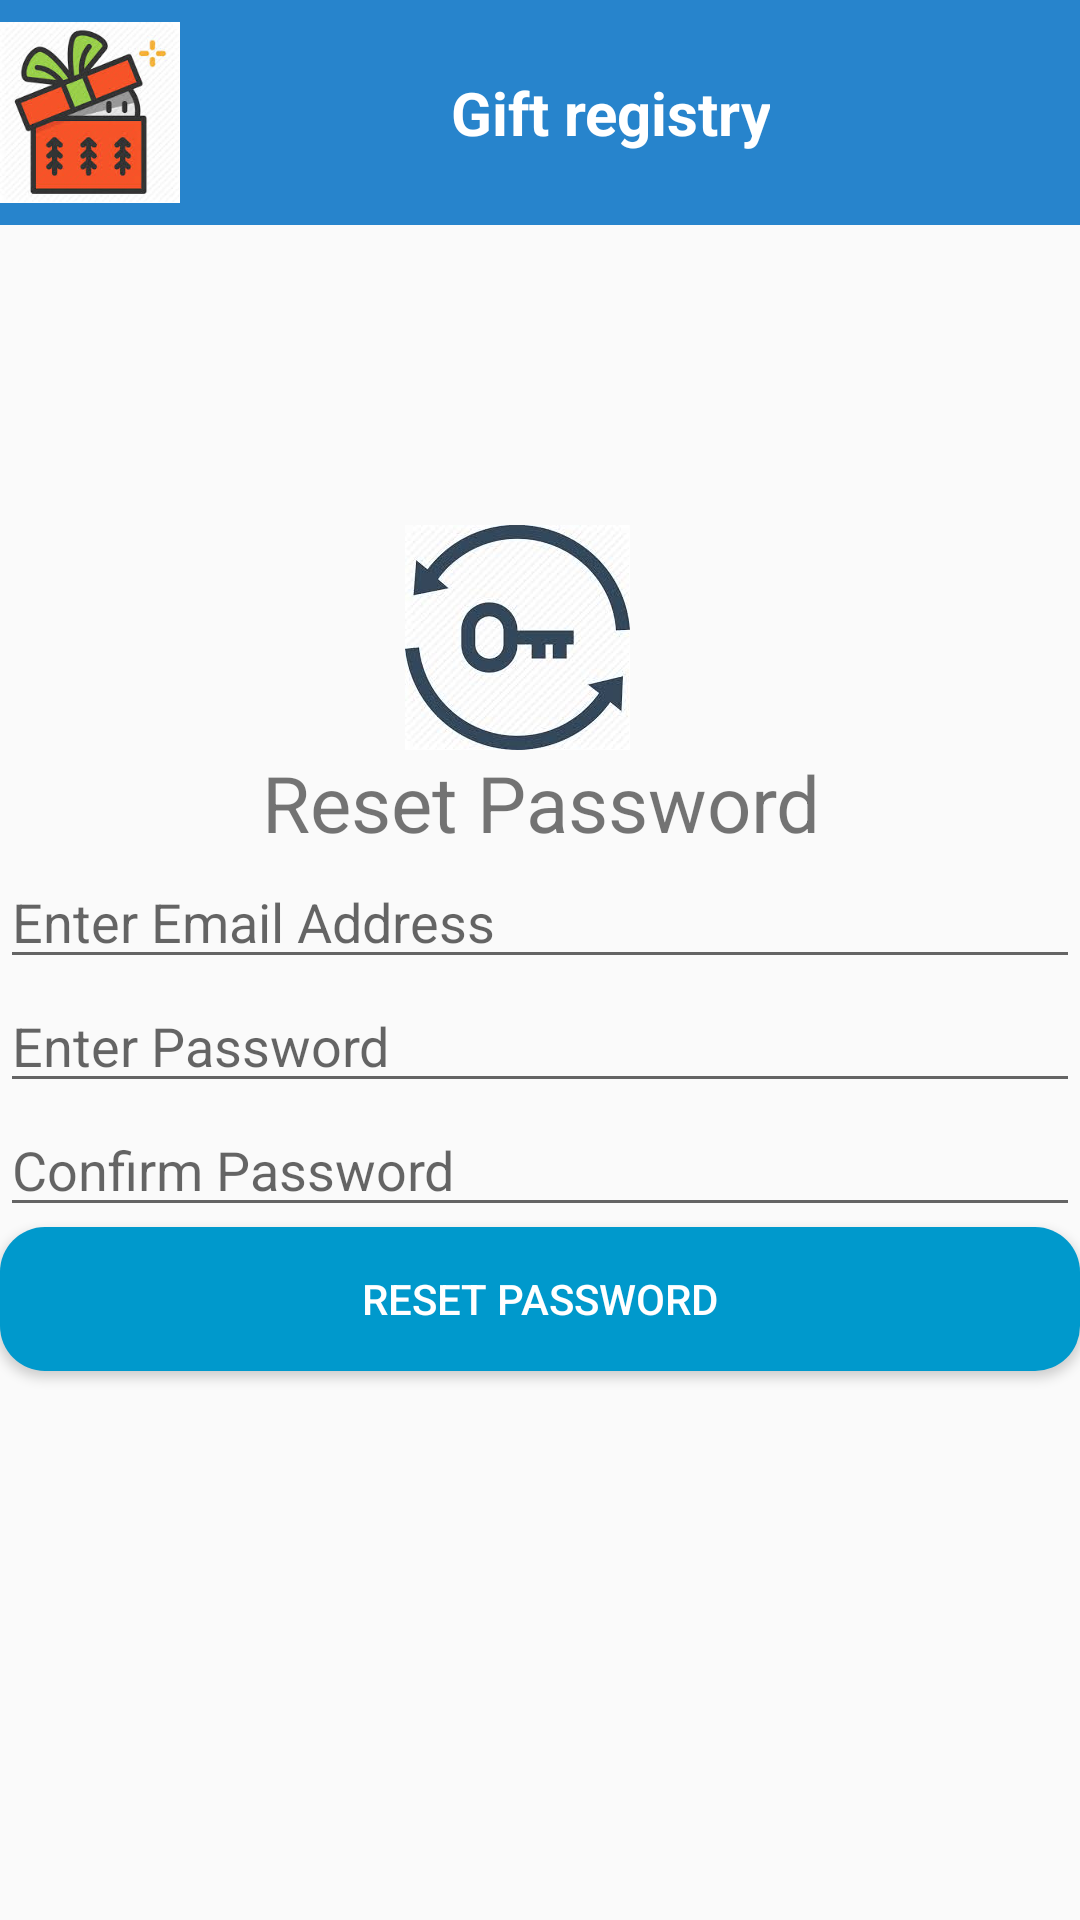

Where to tap for icons on this 1080x1920 app screen, as [x,y]:
gift: [90,112]
